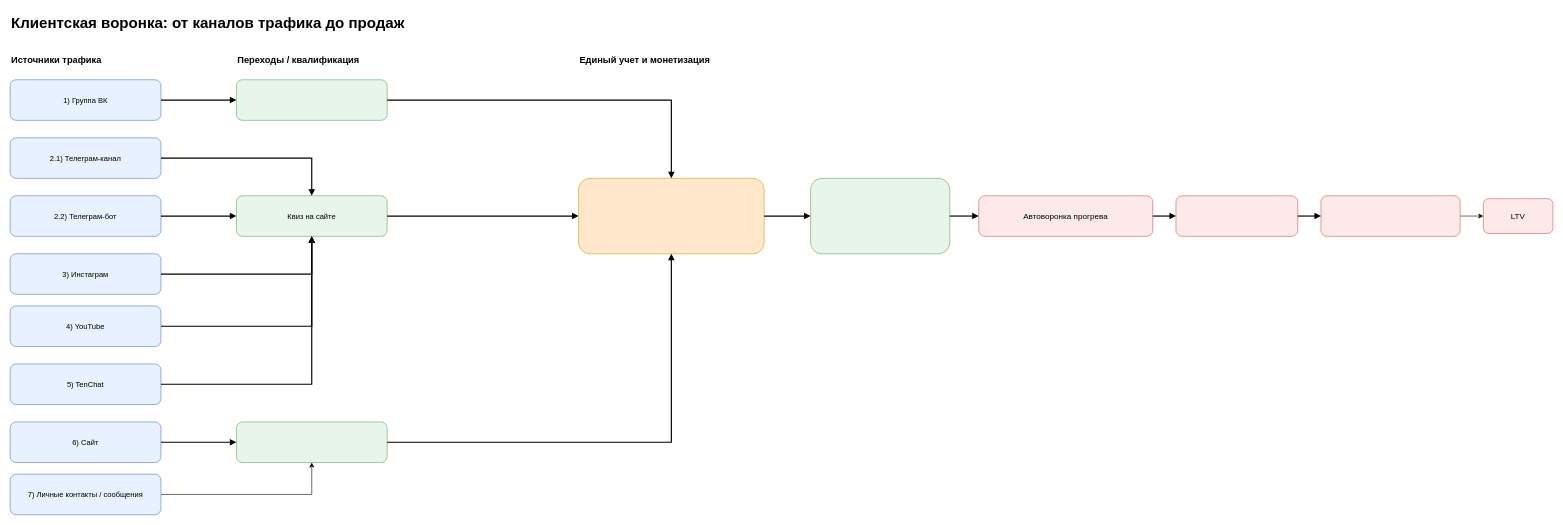
This 1563x525 diagram has some shape labels left out. The shapes that lost their labels are listed below. From the top down, each one's centre as x and y in pixels, then its label:
(311,99): SenlerBot
(671,216): LeadHub (единая база лидов)
(880,216): CRM
(1236,215): Трипваер
(1390,215): Основной продукт
(311,442): Квиз на сайте или CTA
